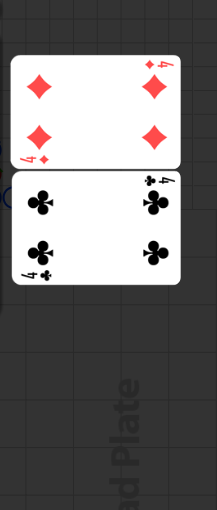4C: (19, 269, 53, 283)
4D: (142, 59, 174, 71)
